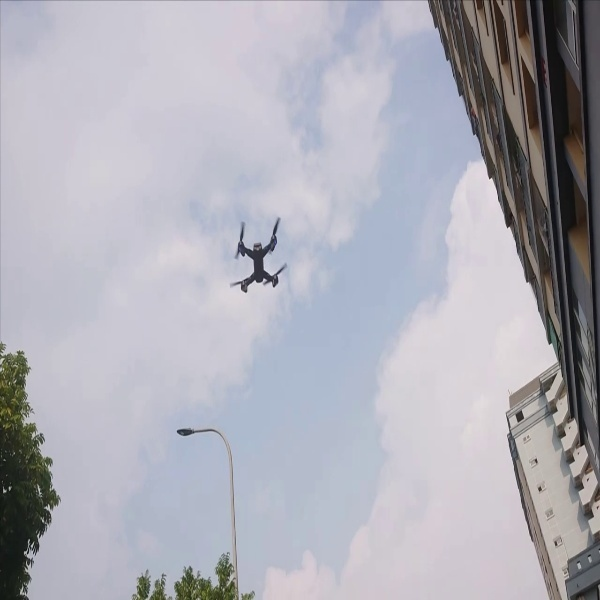drone: (231, 215, 294, 298)
